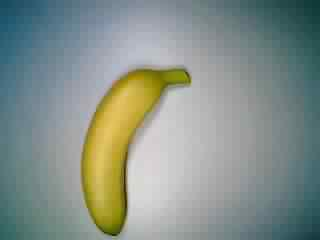banana: (81, 65, 192, 235)
